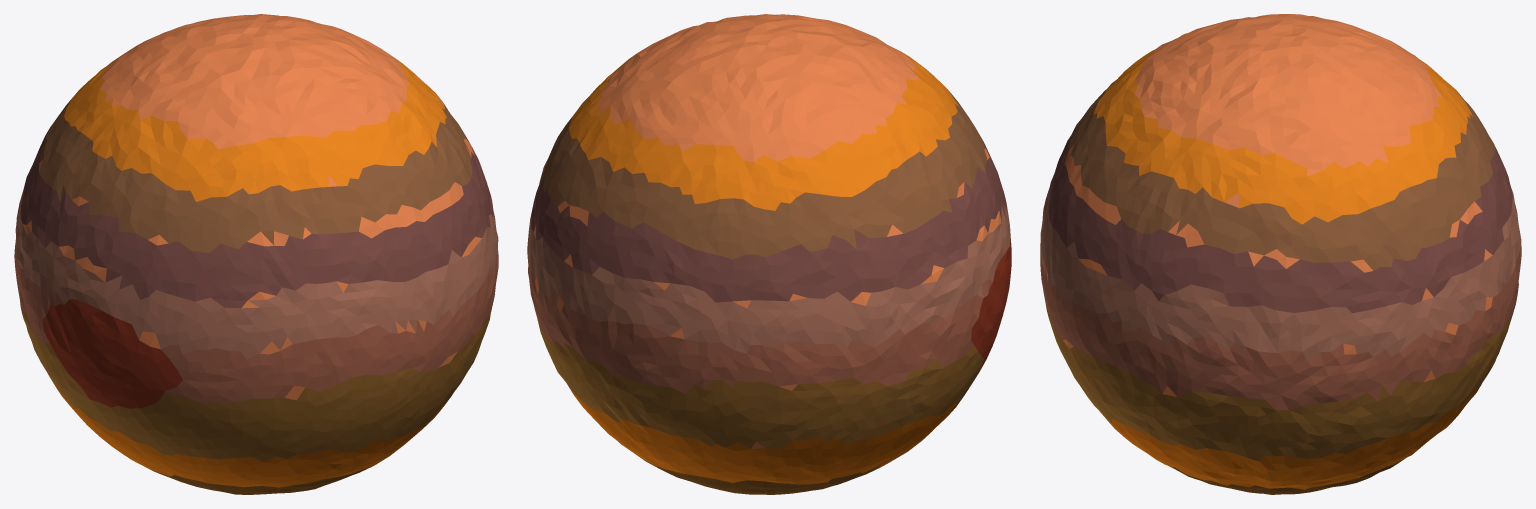
File: Jupiter.gltf
3 views of the same model, side by side, from view 1: azimuth 30°, elevation 25°; view 2: azimuth 150°, elevation 25°; view 3: azimuth 270°, elevation 25° (orthographic).
Visible parts, largest first — view 1: Icosphere; view 2: Icosphere; view 3: Icosphere.
Part boxes in pixels (x1=…): Icosphere: x1=14, y1=14, x2=498, y2=494; Icosphere: x1=527, y1=14, x2=1011, y2=494; Icosphere: x1=1040, y1=14, x2=1521, y2=494.
Size of the model in its own units: 31.87 by 31.69 by 31.81.
